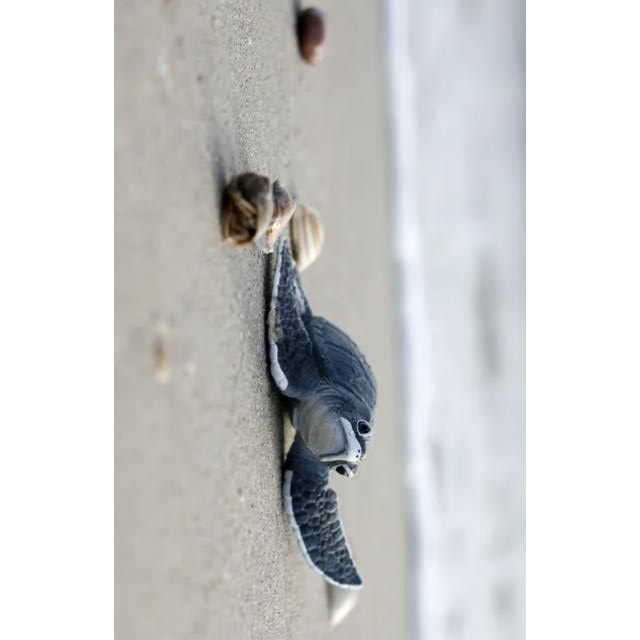turtle: (263, 239, 380, 589)
